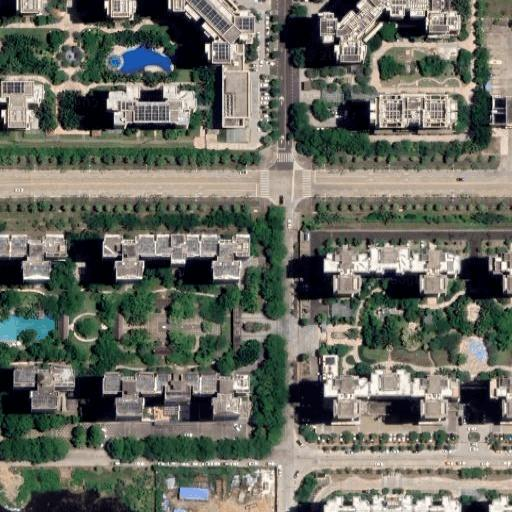building: (316, 0, 454, 65), (323, 356, 460, 419), (103, 233, 252, 279), (103, 371, 249, 416), (167, 0, 255, 74), (322, 249, 456, 292), (0, 230, 66, 280), (107, 86, 191, 125), (369, 95, 458, 128), (14, 367, 75, 409), (324, 495, 460, 512), (0, 80, 45, 128), (116, 46, 170, 74), (223, 74, 247, 129), (486, 95, 512, 126), (468, 497, 510, 512), (178, 487, 208, 501), (110, 0, 132, 17), (113, 312, 123, 341), (58, 313, 68, 342), (152, 297, 175, 306), (154, 346, 171, 355), (34, 303, 44, 316), (174, 509, 183, 512)
